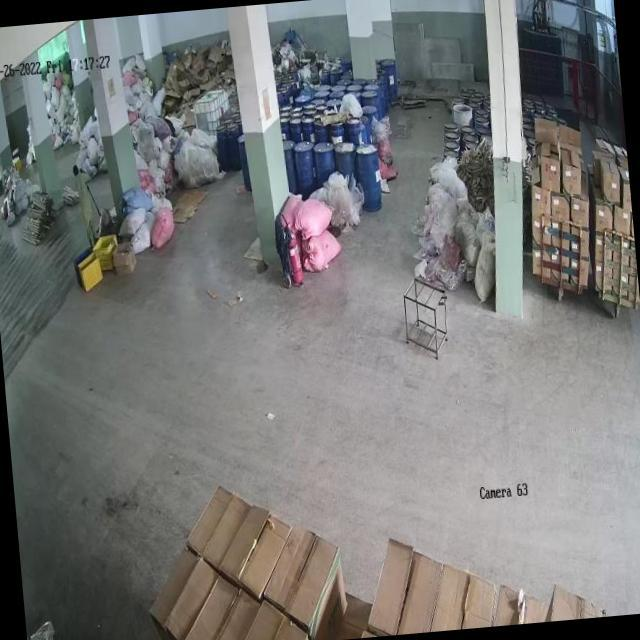person: (72, 160, 98, 246)
